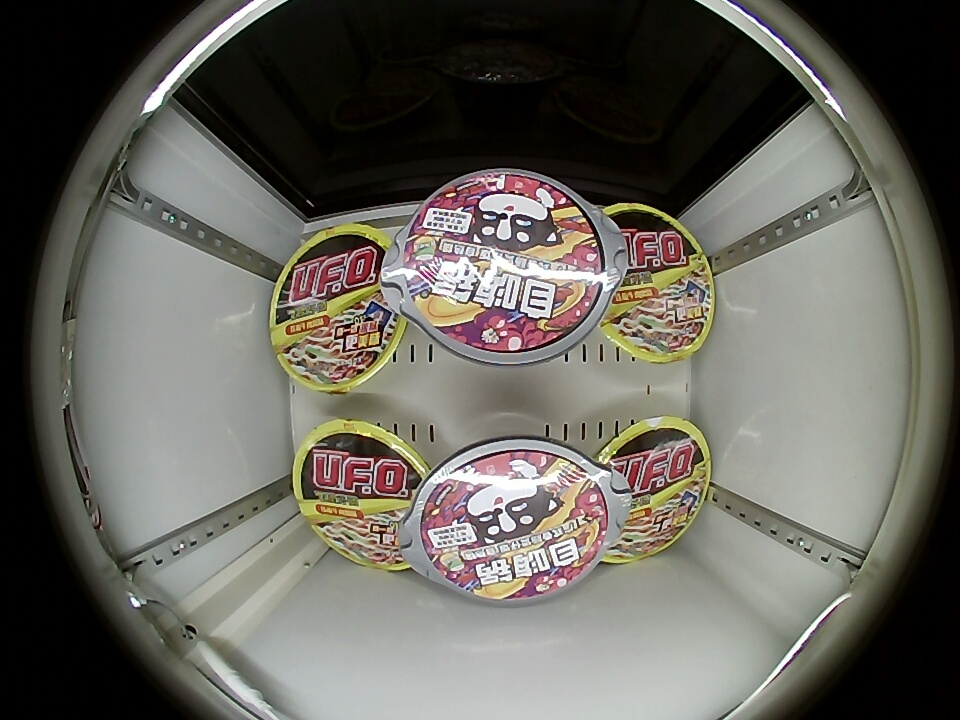ufo: (269, 224, 406, 394), (293, 418, 429, 572), (602, 204, 716, 362), (594, 417, 710, 565)
zihaiguo: (403, 173, 602, 353), (421, 448, 608, 599)
